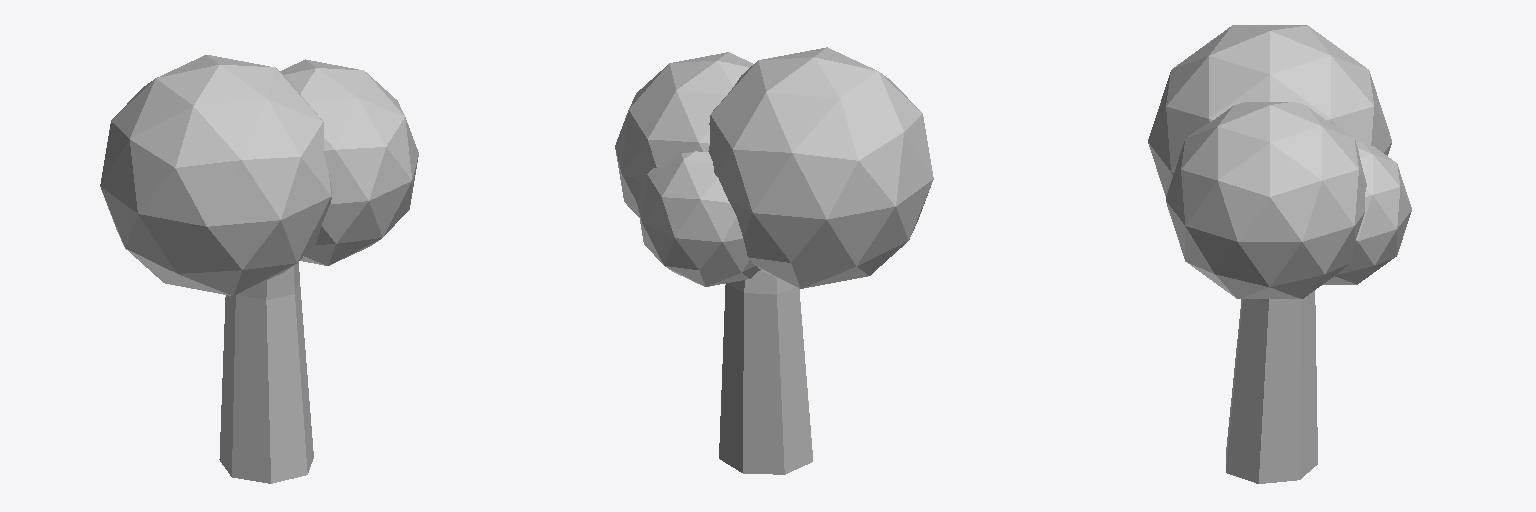
The model's file is tree4.obj.
The picture shows the model from 3 angles: view 1: azimuth 30°, elevation 25°; view 2: azimuth 150°, elevation 25°; view 3: azimuth 270°, elevation 25°; orthographic projection.
Visible parts, largest first — view 1: tree4_Cylinder.019; view 2: tree4_Cylinder.019; view 3: tree4_Cylinder.019.
Boxes of the visible parts, x1=… form: tree4_Cylinder.019: x1=100, y1=55, x2=418, y2=483; tree4_Cylinder.019: x1=615, y1=47, x2=933, y2=474; tree4_Cylinder.019: x1=1148, y1=25, x2=1411, y2=483.
Size of the model in its own units: 3.77 by 5.21 by 3.04.